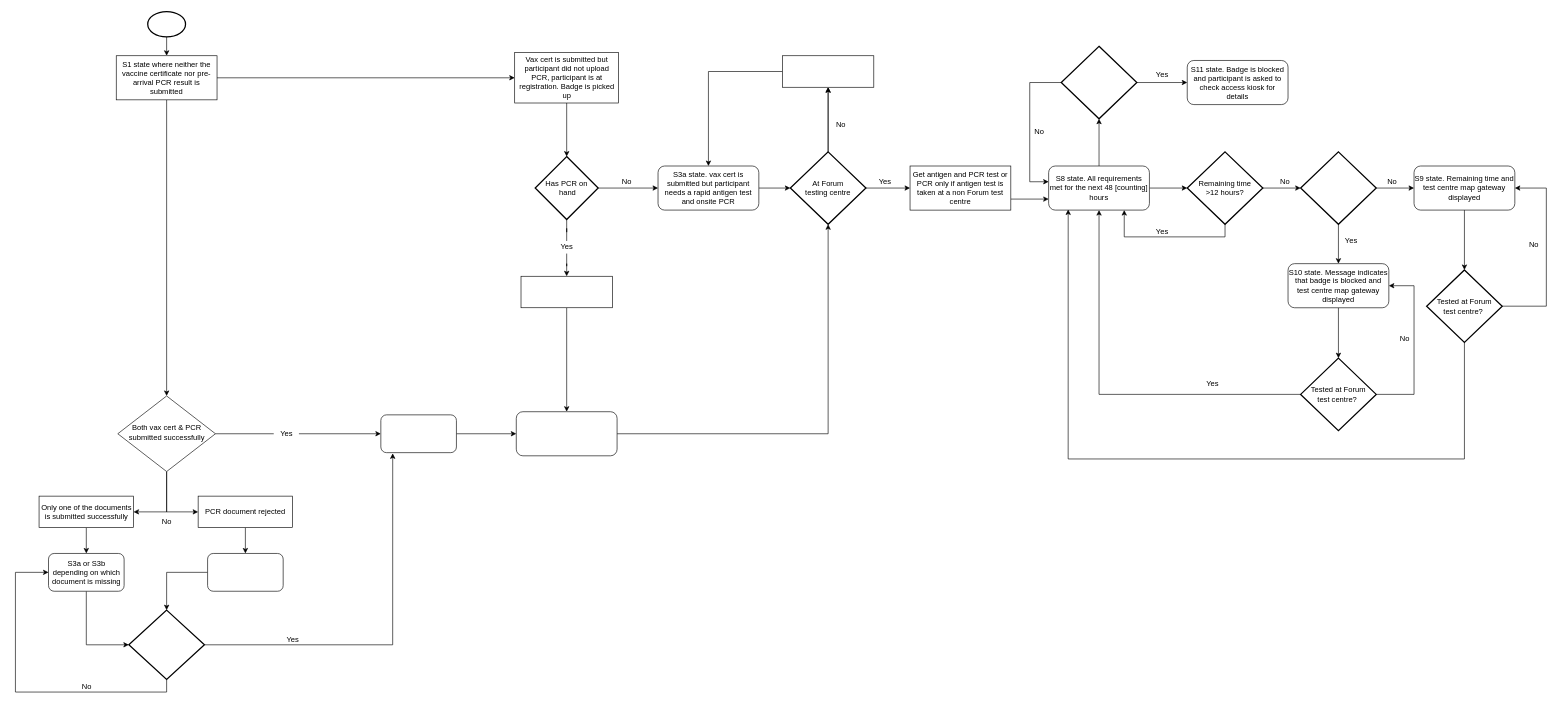
This 1562x708 diagram has some shape labels left out. Each missing label, with the centre of its shape:
"Get antigen test and upload document" belongs at point 828,71.
"Red flagged from Kudelski?" belongs at point 1098,82.
"Remaining time = 0.00 hours?" belongs at point 1338,188.
"S2 state. Upload new PCR document" belongs at point 245,572.
"S4 state. All pre-arrival requirements met" belongs at point 418,433.
"S7 state. Participant proceeds to first on-site test" belongs at point 566,433.
"Show pre-arrival PCR document to registration team" belongs at point 566,292.
"Start" belongs at point 166,24.
"Upload successful" belongs at point 166,644.
